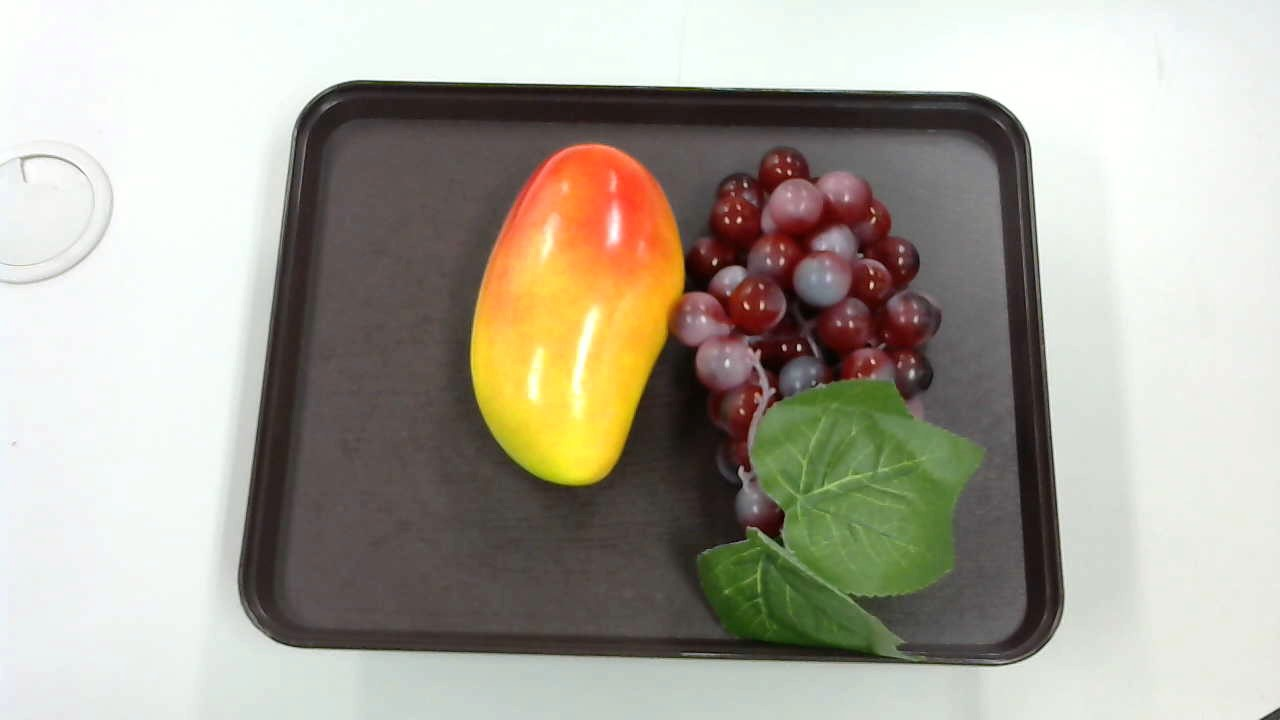grape: (673, 147, 991, 669)
red mango: (469, 142, 678, 486)
